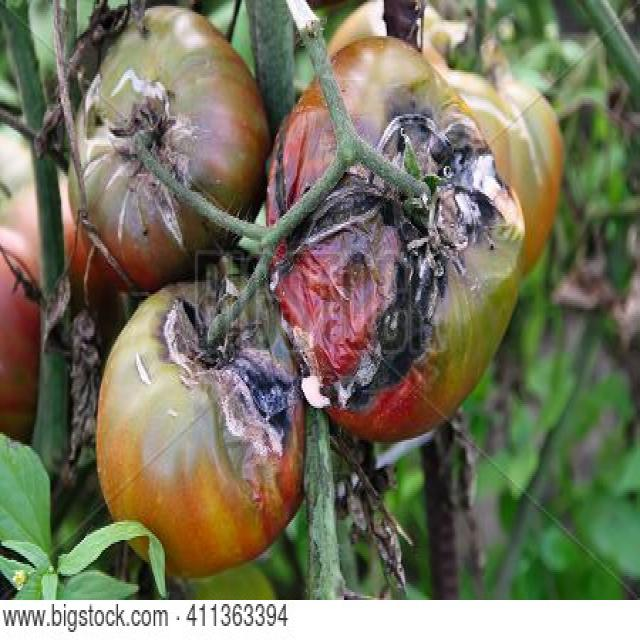overripe tomato: (42, 0, 580, 596)
